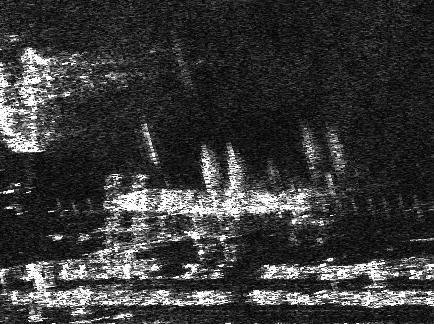ship: (104, 177, 318, 222)
